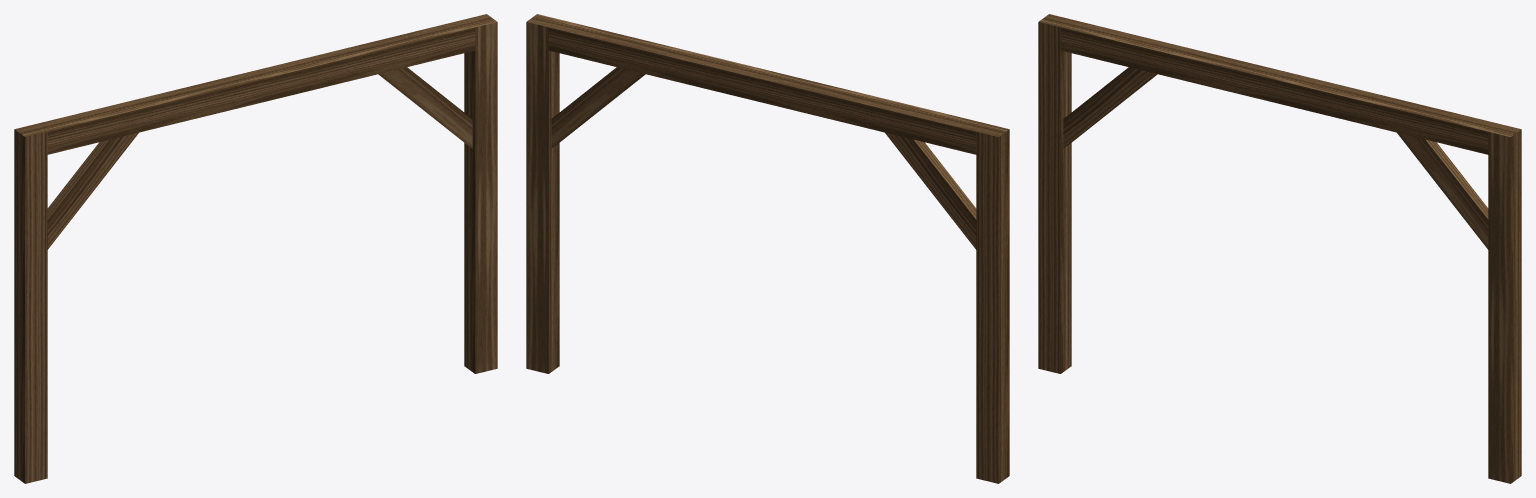
File: Wooden 10.glb
The picture shows the model from 3 angles, left to right: view 1: azimuth 30°, elevation 25°; view 2: azimuth 150°, elevation 25°; view 3: azimuth 330°, elevation 25°; orthographic projection.
Visible parts, largest first — view 1: Wooden_10; view 2: Wooden_10; view 3: Wooden_10.
Boxes of the visible parts, x1,y1,x2,y2 form: Wooden_10: (14,14,497,483); Wooden_10: (526,14,1009,483); Wooden_10: (1038,14,1521,483).
Bounding box in the file's own units: 1.68 × 1.18 × 0.0668.
Materials: 1 (1 with a texture image).
